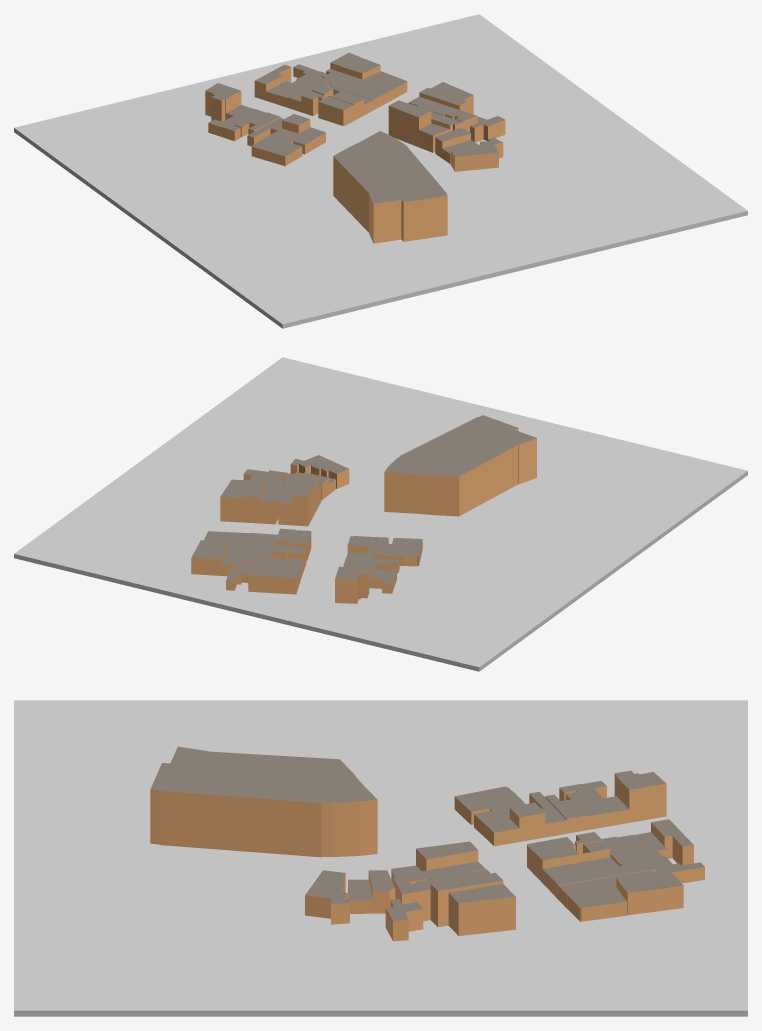
File: Niki.fbx
3 renders of one model, top to bottom at view 1: azimuth 30°, elevation 25°; view 2: azimuth 150°, elevation 25°; view 3: azimuth 270°, elevation 25°, orthographic. The views are drawn at different scales.
Parts seen in each view (by area): view 1: Cube, map.osm_buildings; view 2: Cube, map.osm_buildings; view 3: Cube, map.osm_buildings.
Boxes of the visible parts, x1,y1,x2,y2 form: Cube: (14,14,747,328); map.osm_buildings: (205,52,505,243); Cube: (14,357,747,671); map.osm_buildings: (191,415,536,603); Cube: (14,700,747,1016); map.osm_buildings: (150,746,704,941).
Size of the model in its own units: 22096 by 2004 by 22096.
